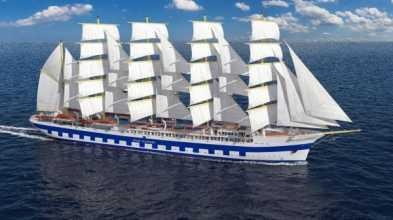fanchuan: (31, 17, 366, 166)
